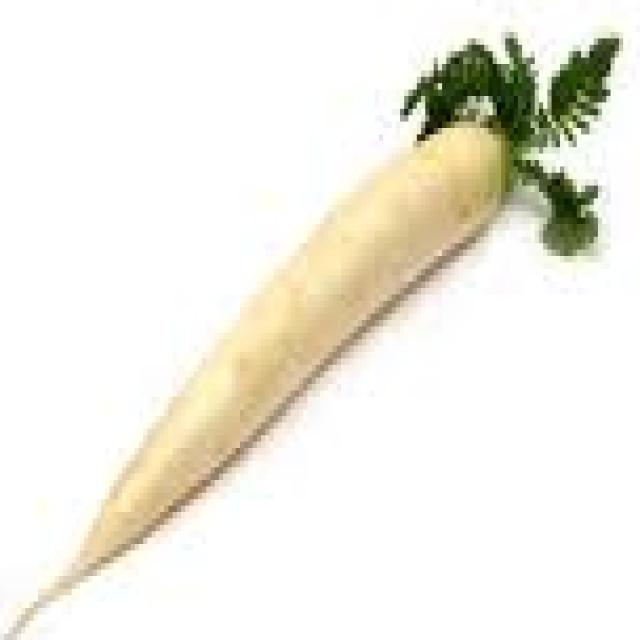radish: (13, 13, 598, 621)
